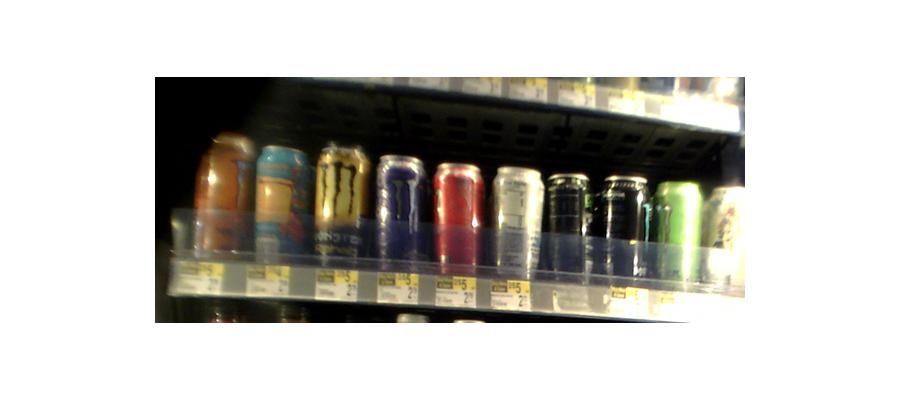bottle: (194, 130, 251, 264), (313, 140, 370, 271), (254, 144, 308, 264), (488, 164, 541, 282), (375, 154, 427, 272), (544, 167, 594, 284), (431, 161, 483, 273), (598, 170, 650, 282), (653, 179, 704, 288), (713, 180, 745, 288)
